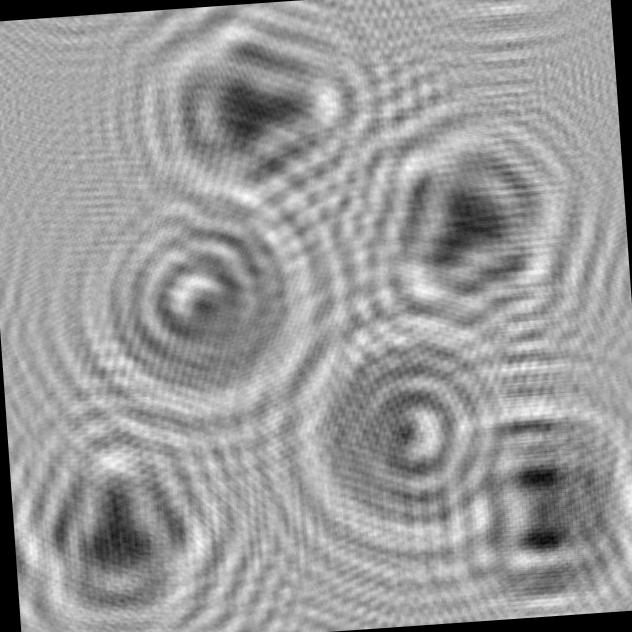A: (339, 87, 606, 360), (6, 394, 255, 632), (125, 0, 382, 224)
C: (50, 139, 356, 462), (254, 277, 548, 565)
E: (419, 367, 632, 624)
